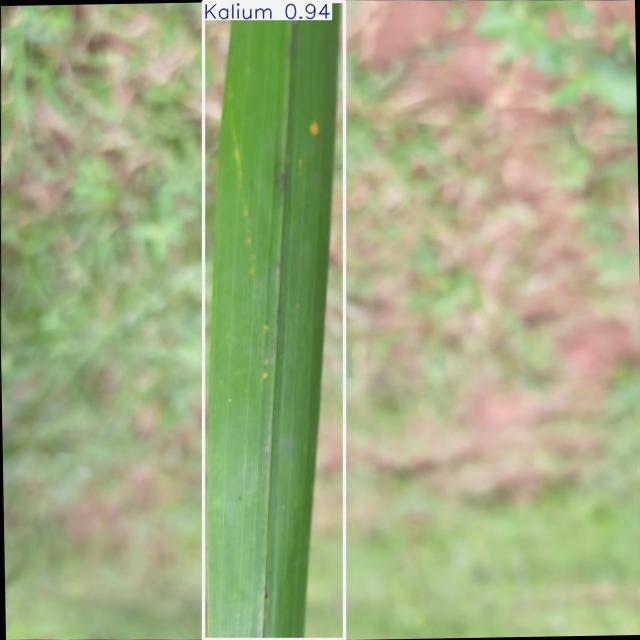Kalium: (203, 1, 344, 640)
